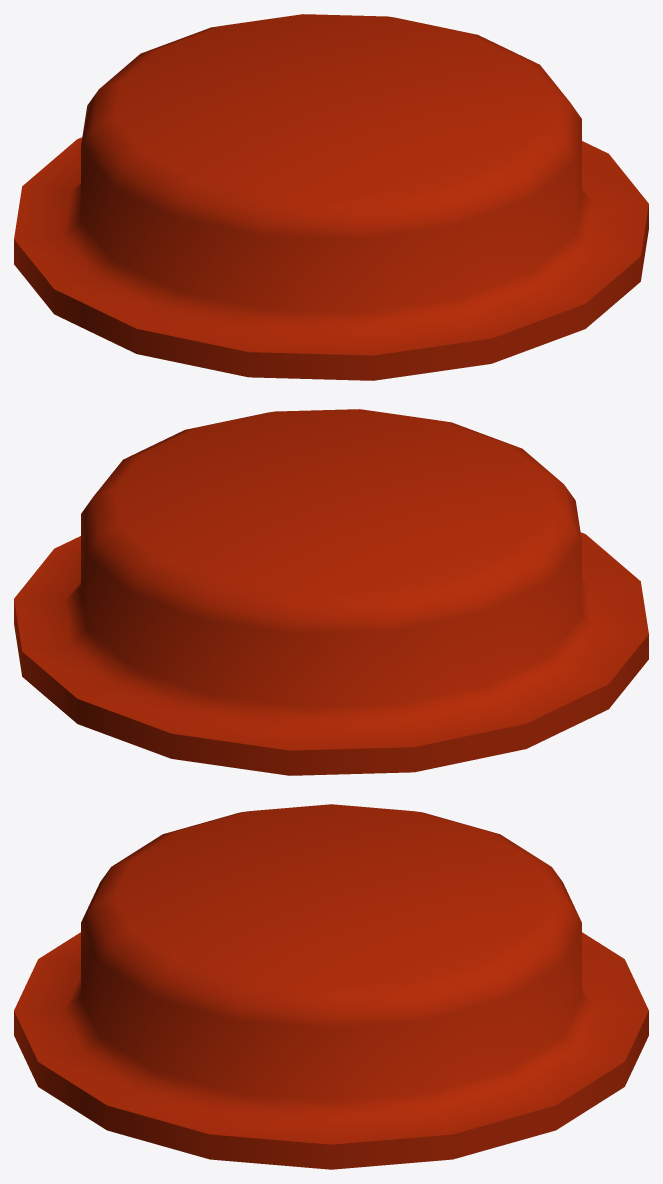
Rendered from Cap_01.FBX.
3 views of the same model, one above another, from view 1: azimuth 30°, elevation 25°; view 2: azimuth 150°, elevation 25°; view 3: azimuth 270°, elevation 25° (orthographic).
Visible parts, largest first — view 1: Caps_up1_001_Low; view 2: Caps_up1_001_Low; view 3: Caps_up1_001_Low.
Part boxes in pixels (<box>): Caps_up1_001_Low: <box>14,14,648,380</box>; Caps_up1_001_Low: <box>14,409,648,775</box>; Caps_up1_001_Low: <box>14,804,648,1169</box>.
Size of the model in its own units: 38 by 9.23 by 38.
